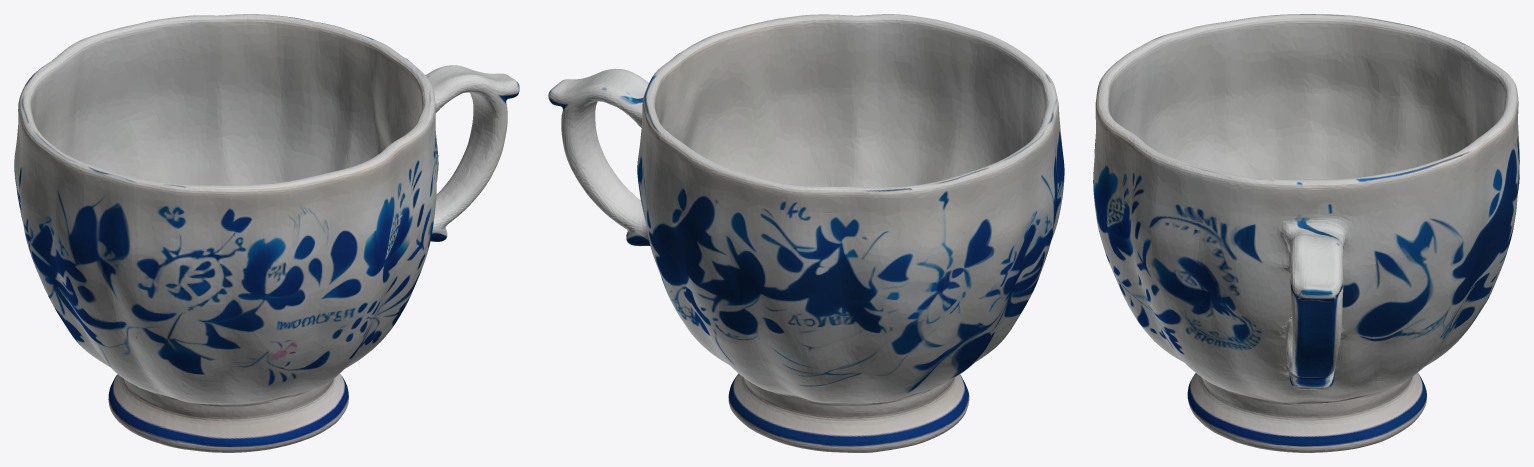
3 views of the same model, side by side, from view 1: azimuth 30°, elevation 25°; view 2: azimuth 150°, elevation 25°; view 3: azimuth 270°, elevation 25° (orthographic).
Parts seen in each view (by area): view 1: demo_textured.obj; view 2: demo_textured.obj; view 3: demo_textured.obj.
Part boxes in pixels (x1=…): demo_textured.obj: x1=14, y1=14, x2=519, y2=452; demo_textured.obj: x1=548, y1=14, x2=1064, y2=452; demo_textured.obj: x1=1093, y1=14, x2=1519, y2=452.
Bounding box in the file's own units: 1.98 × 1.23 × 1.54.
Materials: 1 (1 with a texture image).
